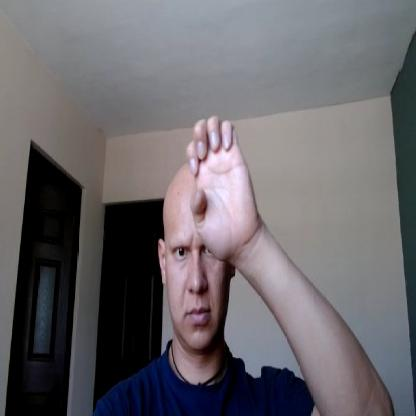E: (185, 114, 256, 261)
